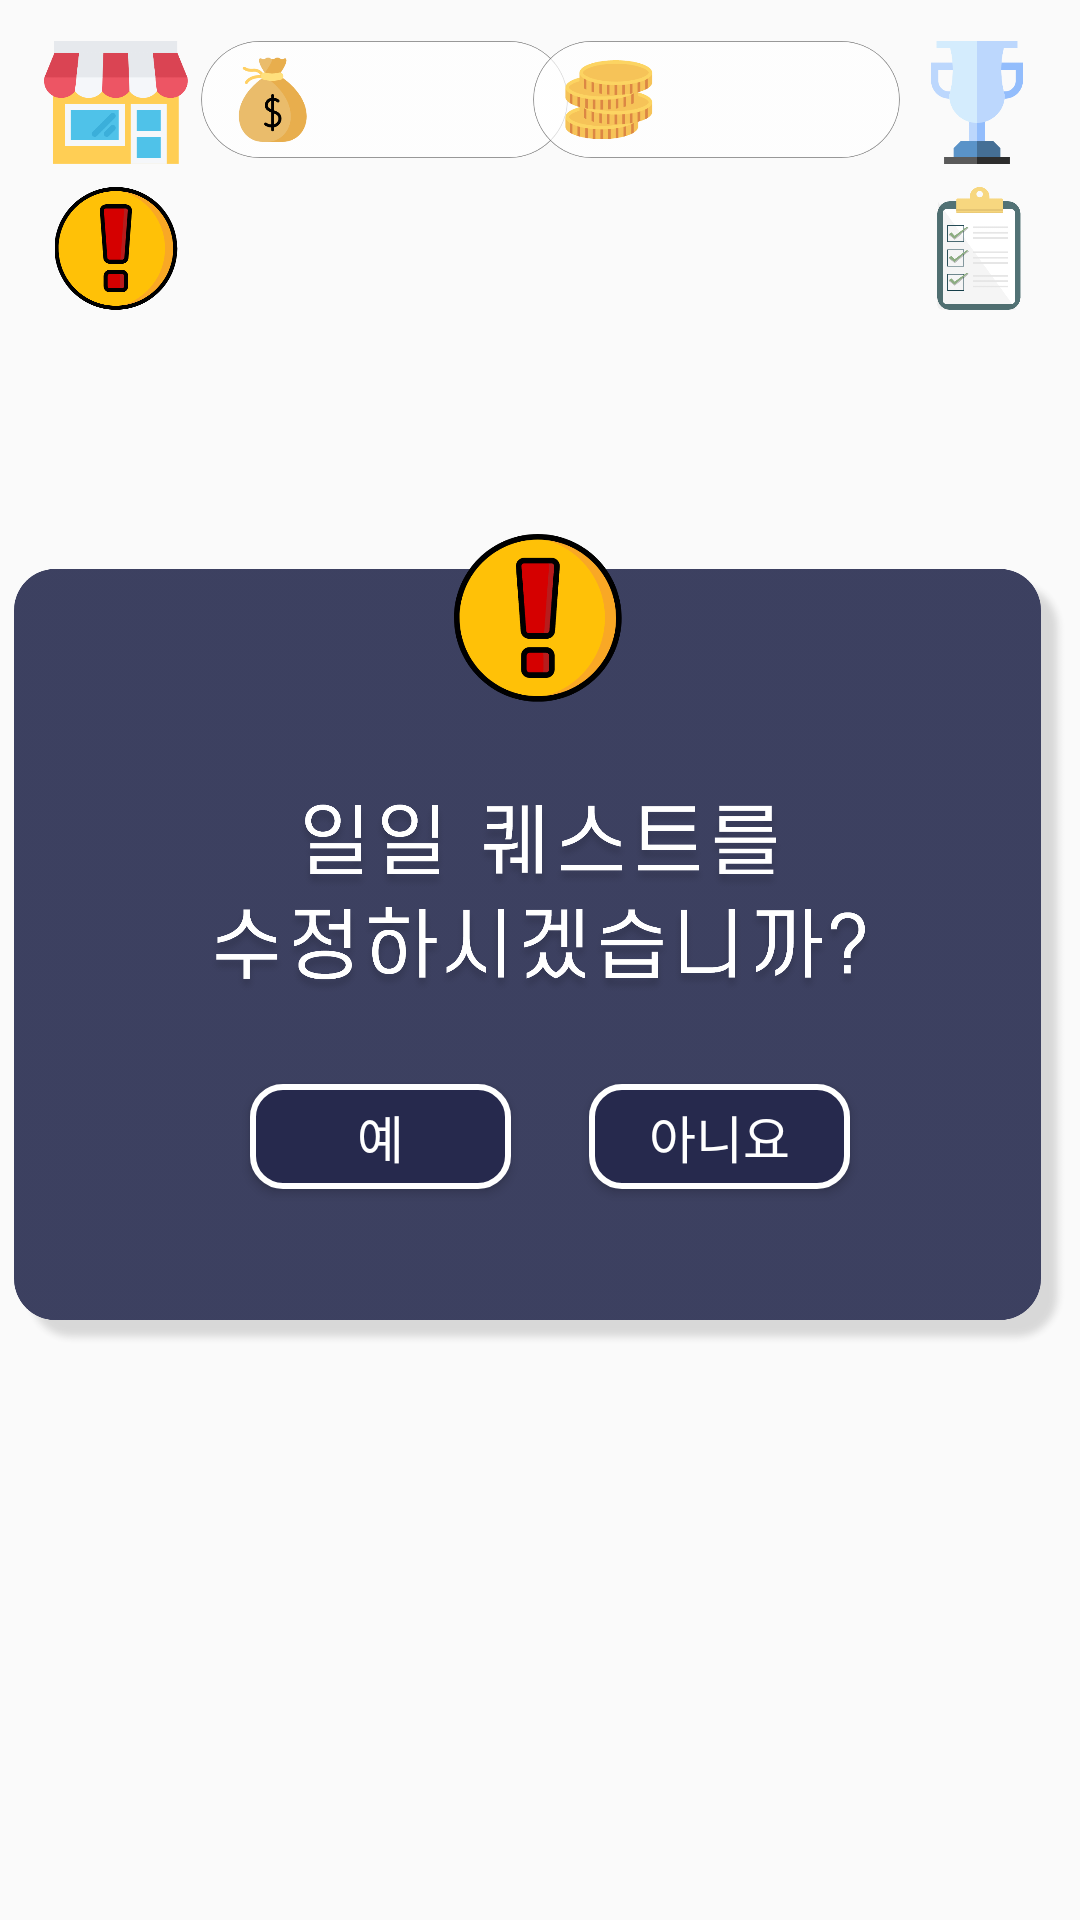

Locate icon controls on the screen. Image size 1080w x 1920h, boxes as (x1, y1, x2, y2).
todo list: (937, 187, 1021, 310)
trophy: (931, 41, 1023, 164)
